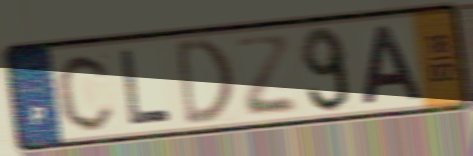9: (299, 24, 355, 116)
A: (358, 22, 428, 108)
C: (54, 50, 118, 134)
D: (173, 34, 235, 130)
L: (118, 46, 175, 130)
Z: (232, 34, 300, 120)
